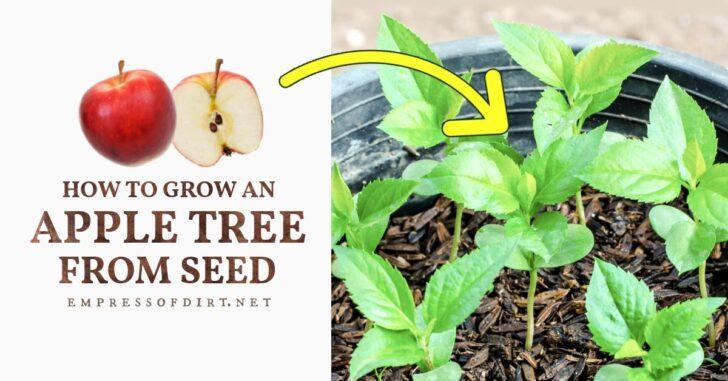apple: (78, 64, 177, 167)
